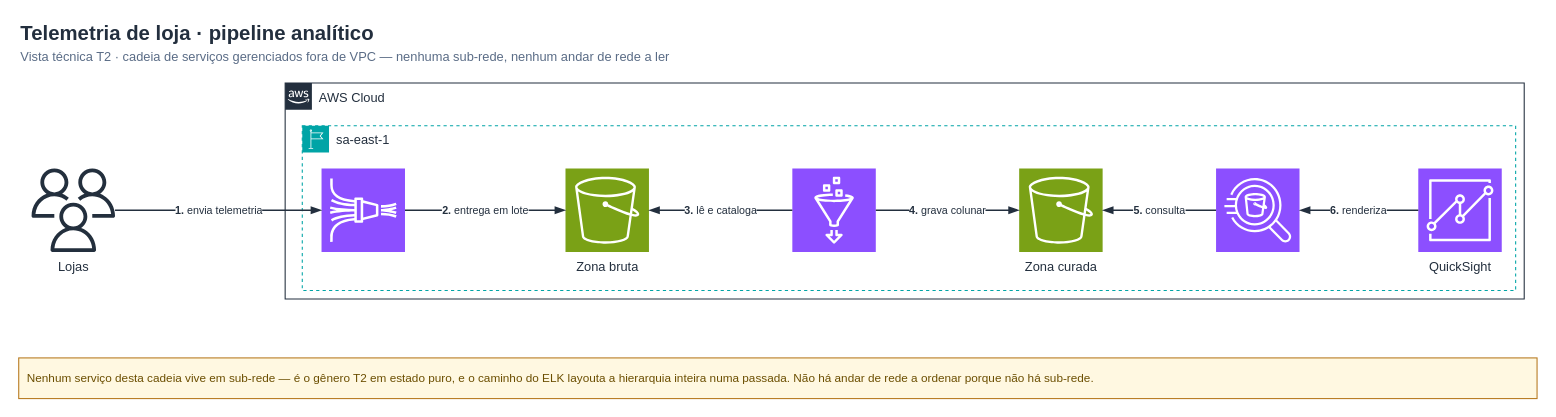
This 1556x417 diagram has some shape labels left out. The box of each missing label's shape, as (x1, y1, x2, y2) in pixels:
Athena: (1215, 167, 1300, 252)
Data Firehose: (320, 167, 405, 252)
Glue: (791, 167, 876, 252)
